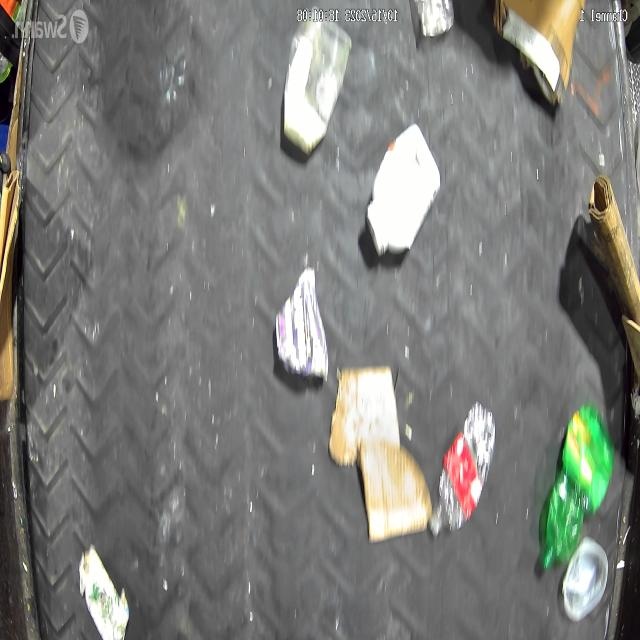plastic_bottle: (539, 403, 615, 574), (427, 402, 495, 538)
